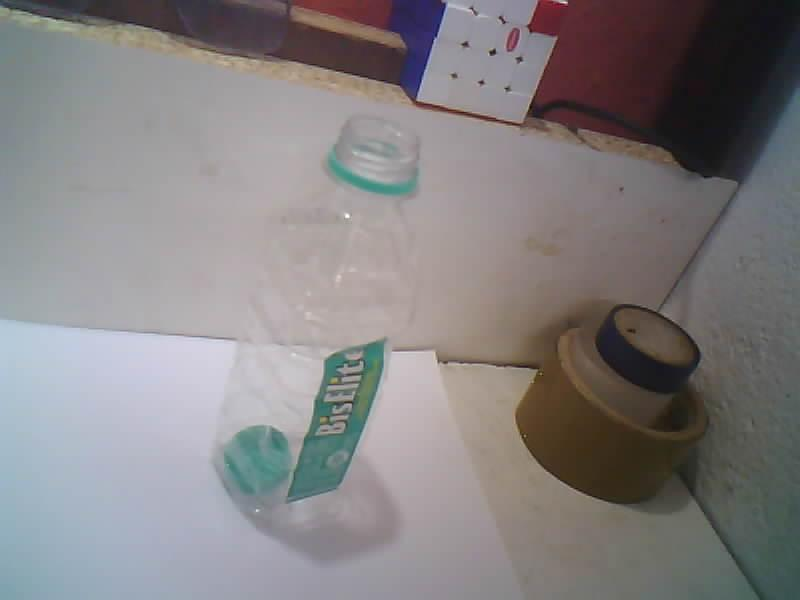non-biodegradable: (213, 116, 419, 535)
